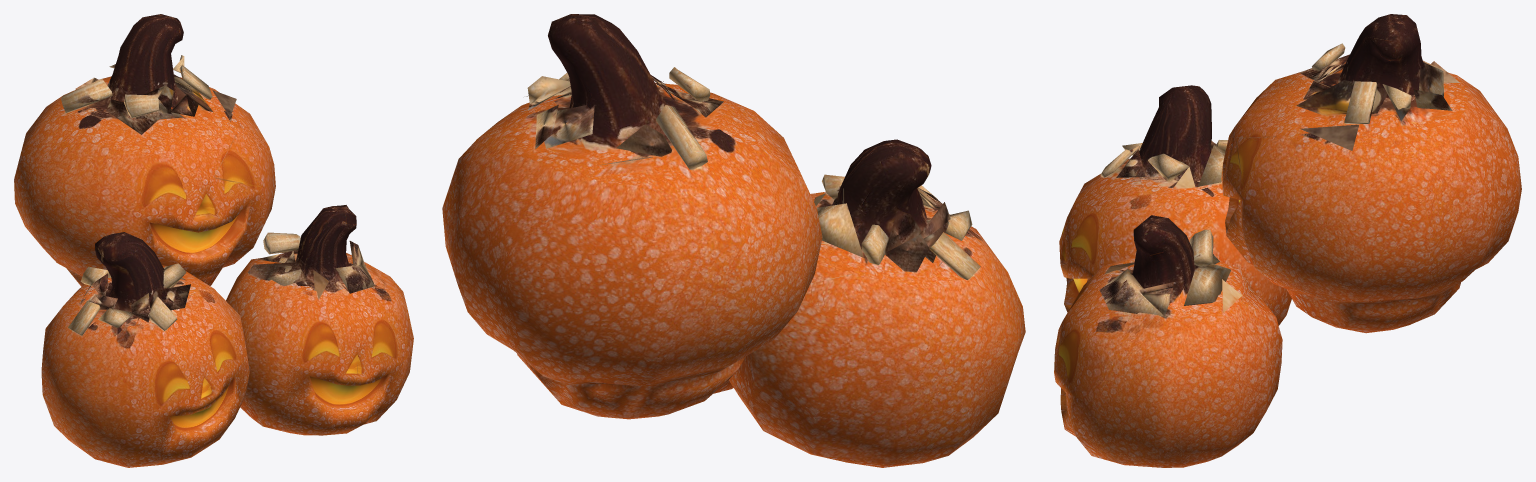
File: AW-HW-PUMPKIN-001-v0.2.glb
The picture shows the model from 3 angles, left to right: view 1: azimuth 30°, elevation 25°; view 2: azimuth 150°, elevation 25°; view 3: azimuth 270°, elevation 25°; orthographic projection. The views are drawn at different scales.
Visible parts, largest first — view 1: AW-HW-PUMPKIN-001_meter_ground_pivot; view 2: AW-HW-PUMPKIN-001_meter_ground_pivot; view 3: AW-HW-PUMPKIN-001_meter_ground_pivot.
Boxes of the visible parts, x1=… form: AW-HW-PUMPKIN-001_meter_ground_pivot: x1=14, y1=14, x2=413, y2=467; AW-HW-PUMPKIN-001_meter_ground_pivot: x1=442, y1=14, x2=1025, y2=467; AW-HW-PUMPKIN-001_meter_ground_pivot: x1=1054, y1=14, x2=1521, y2=467.
Size of the model in its own units: 0.8713 by 0.8 by 0.8664.
Materials: 1 (1 with a texture image).
